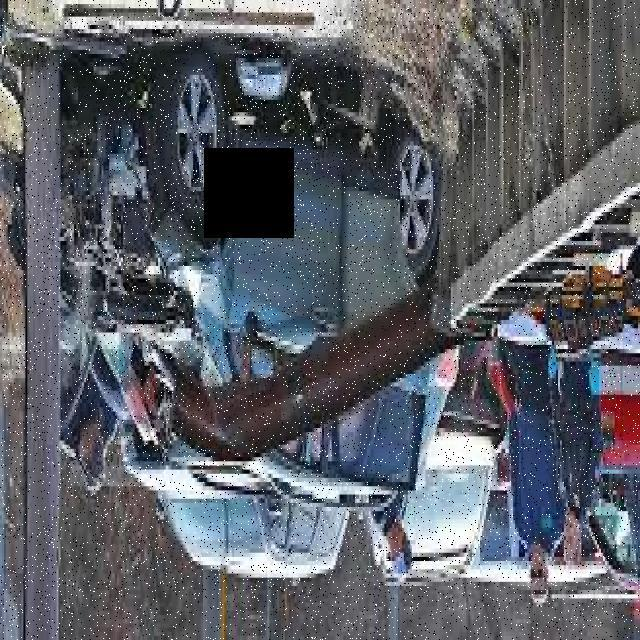severe: (0, 44, 462, 539)
